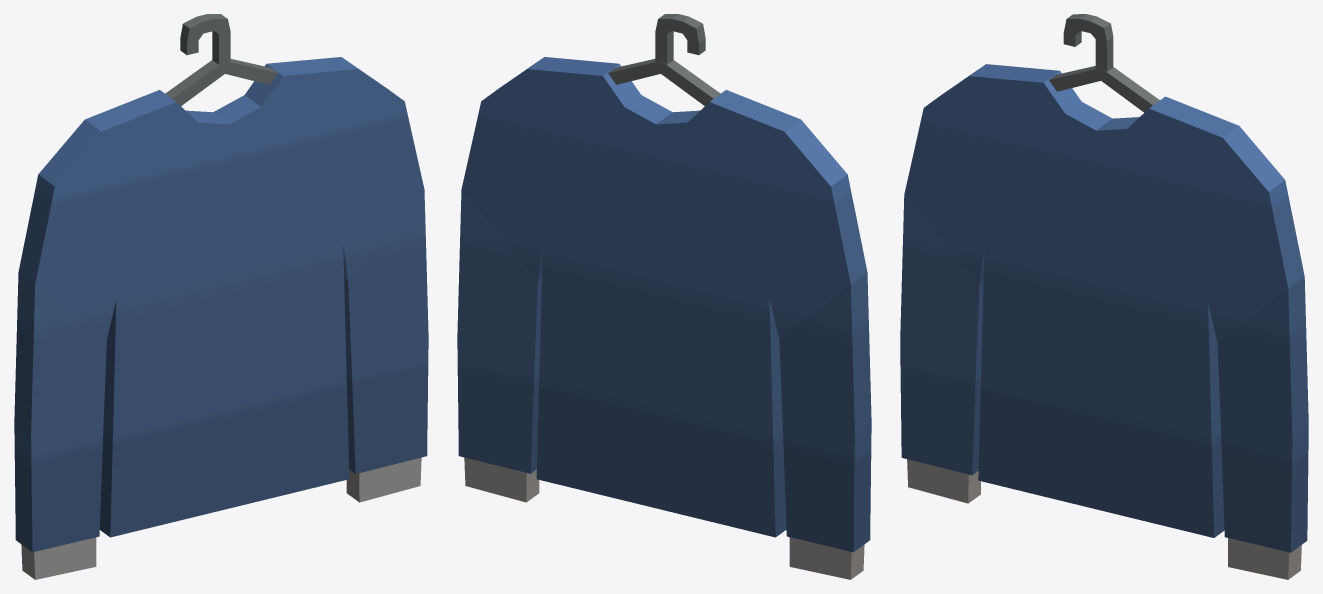
The model's file is SM_Props_Interior_Shop_Clothes_Jacket_02.fbx.
The picture shows the model from 3 angles, left to right: view 1: azimuth 30°, elevation 25°; view 2: azimuth 150°, elevation 25°; view 3: azimuth 330°, elevation 25°; orthographic projection.
Visible parts, largest first — view 1: SM_Props_Interior_Shop_Clothes_Jacket_02; view 2: SM_Props_Interior_Shop_Clothes_Jacket_02; view 3: SM_Props_Interior_Shop_Clothes_Jacket_02.
Boxes of the visible parts, left/top/right/bottom form: SM_Props_Interior_Shop_Clothes_Jacket_02: left=14, top=14, right=428, bottom=579; SM_Props_Interior_Shop_Clothes_Jacket_02: left=457, top=14, right=871, bottom=579; SM_Props_Interior_Shop_Clothes_Jacket_02: left=900, top=14, right=1308, bottom=579.
Size of the model in its own units: 69.61 by 86.38 by 5.07.
